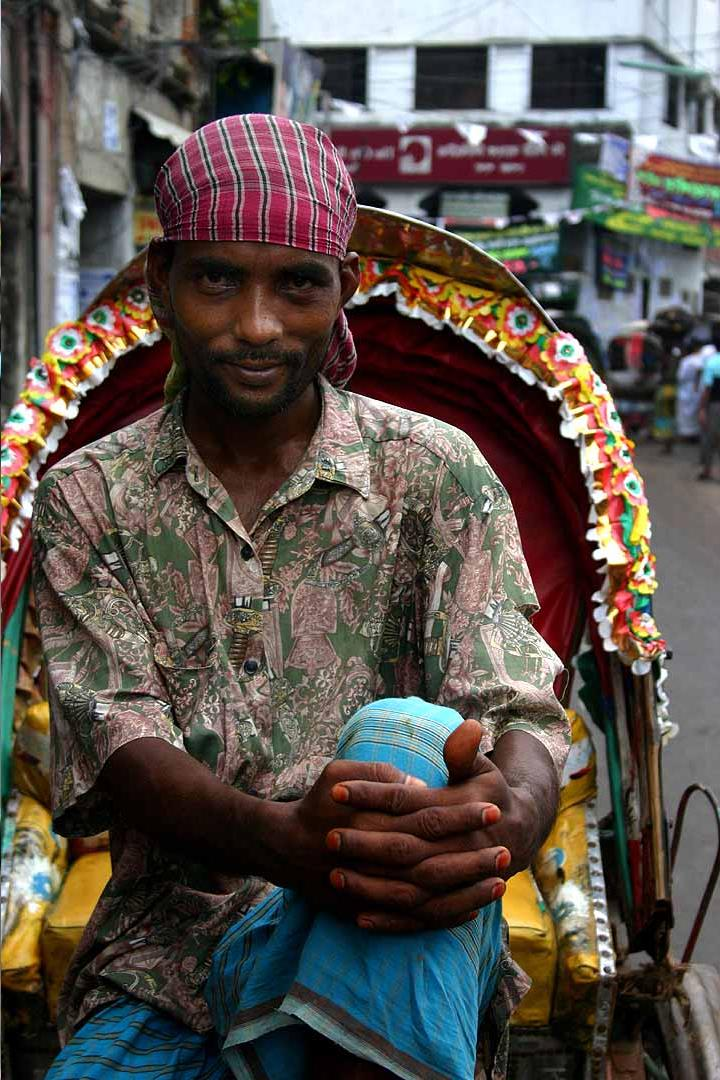Rickshaw: (0, 203, 656, 1064)
